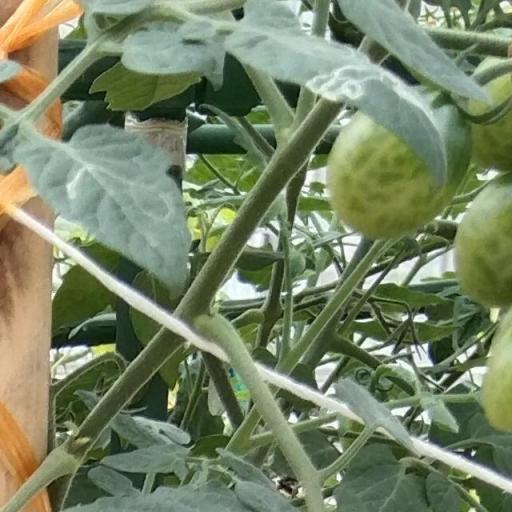Leaf_Miner: (221, 0, 449, 190), (10, 123, 193, 304)
